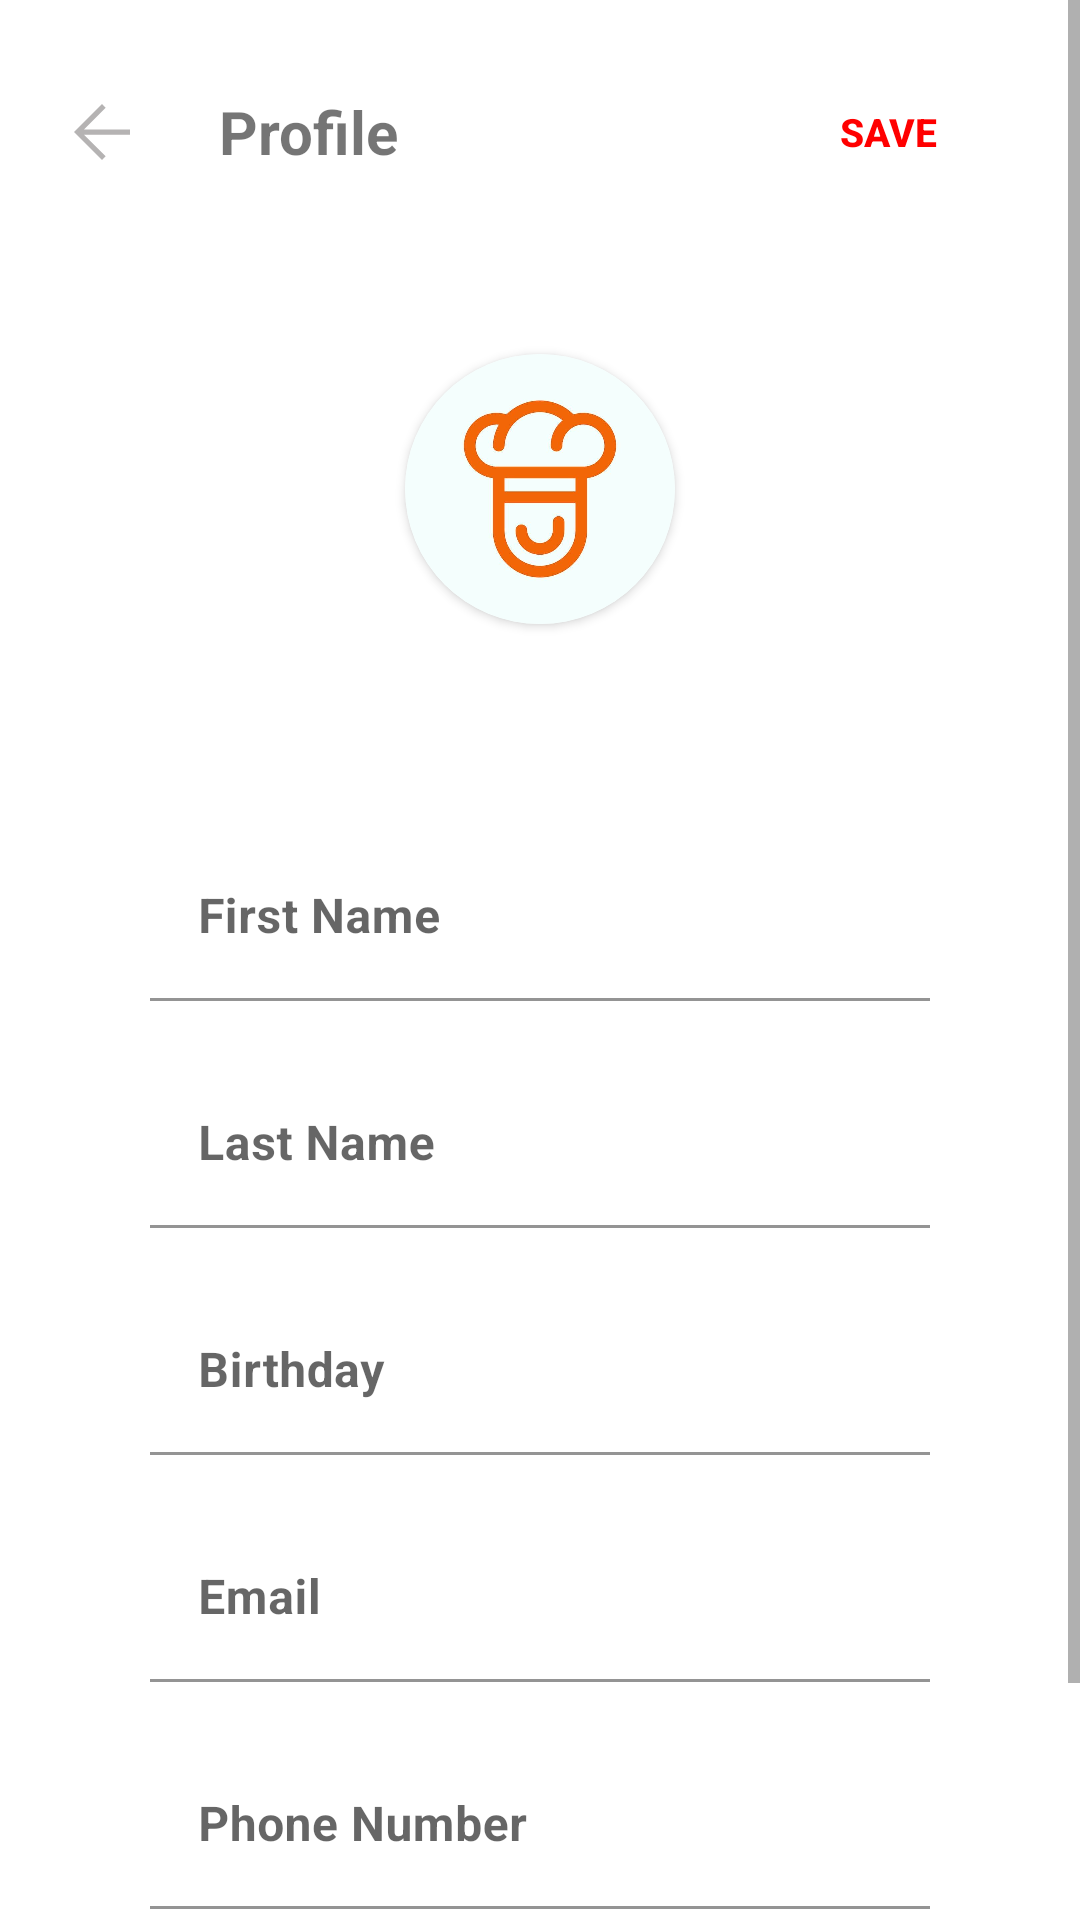

Screen size 1080 x 1920. Icon name, then its box in pixels as box(x1, y1, x2, y2):
arrow back: box(74, 104, 130, 160)
